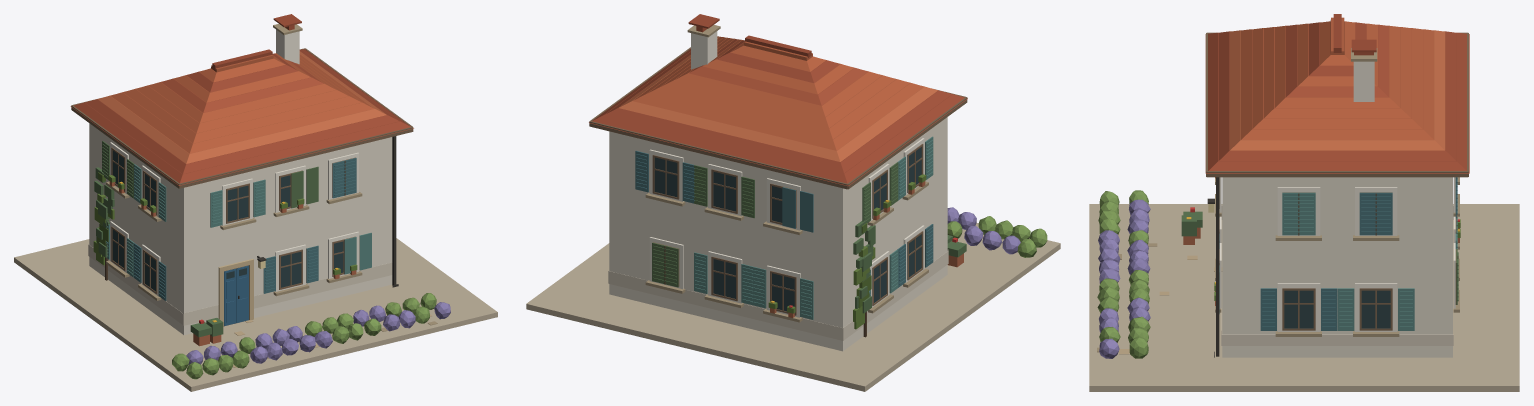
File: ev-badana-kirma.glb
The picture shows the model from 3 angles, left to right: view 1: azimuth 30°, elevation 25°; view 2: azimuth 150°, elevation 25°; view 3: azimuth 270°, elevation 25°; orthographic projection. The views are drawn at different scales.
Parts seen in each view (by area): view 1: badana3, zemin, kiremit1, kiremit4, ahsap, badana, yaprak3, lavanta, kiremit3, cam, kepenk2, badana_kir (+10 smaller); view 2: badana3, zemin, kiremit1, kiremit4, ahsap, badana, cam, kiremit3, badana_kir, kepenk2, yesil_kepenk, kepenk (+6 smaller); view 3: zemin, badana3, kiremit1, kiremit4, kiremit3, badana, ahsap, yaprak3, lavanta, kepenk2, kepenk, badana_kir (+5 smaller).
Boxes of the visible parts, x1=… form: badana3: x1=89, y1=123, x2=392, y2=335; zemin: x1=14, y1=238, x2=497, y2=391; kiremit1: x1=110, y1=53, x2=373, y2=153; kiremit4: x1=70, y1=14, x2=413, y2=185; ahsap: x1=71, y1=48, x2=413, y2=294; badana: x1=110, y1=29, x2=358, y2=296; yaprak3: x1=172, y1=293, x2=436, y2=379; lavanta: x1=186, y1=302, x2=450, y2=364; kiremit3: x1=98, y1=51, x2=386, y2=163; cam: x1=112, y1=150, x2=343, y2=291; kepenk2: x1=105, y1=164, x2=371, y2=277; badana_kir: x1=88, y1=244, x2=392, y2=325; badana3: x1=609, y1=117, x2=947, y2=351; zemin: x1=526, y1=223, x2=1060, y2=391; kiremit1: x1=633, y1=37, x2=923, y2=150; kiremit4: x1=589, y1=14, x2=967, y2=186; ahsap: x1=589, y1=47, x2=967, y2=315; badana: x1=649, y1=31, x2=924, y2=317; cam: x1=654, y1=147, x2=921, y2=311; kiremit3: x1=619, y1=36, x2=937, y2=161; badana_kir: x1=608, y1=249, x2=948, y2=340; kepenk2: x1=694, y1=136, x2=933, y2=319; yesil_kepenk: x1=652, y1=162, x2=898, y2=287; kepenk: x1=635, y1=150, x2=933, y2=287; zemin: x1=1089, y1=204, x2=1519, y2=391; badana3: x1=1222, y1=177, x2=1452, y2=357; kiremit1: x1=1241, y1=17, x2=1433, y2=139; kiremit4: x1=1205, y1=14, x2=1469, y2=173; kiremit3: x1=1229, y1=30, x2=1445, y2=150; badana: x1=1219, y1=61, x2=1455, y2=331; ahsap: x1=1206, y1=32, x2=1468, y2=330; yaprak3: x1=1097, y1=190, x2=1150, y2=358; lavanta: x1=1098, y1=199, x2=1150, y2=358; kepenk2: x1=1219, y1=192, x2=1457, y2=330; kepenk: x1=1219, y1=177, x2=1457, y2=330; badana_kir: x1=1221, y1=205, x2=1453, y2=345.
Size of the model in its own units: 13 by 9.64 by 13.
